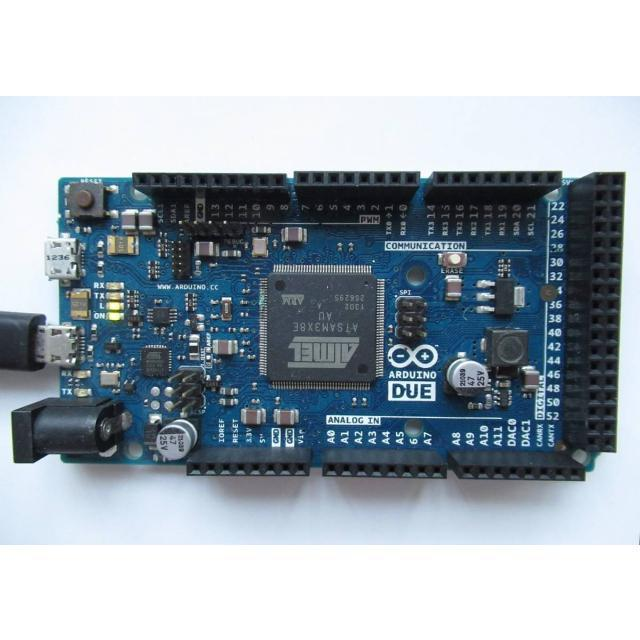Arduino-Due: (1, 172, 624, 481)
